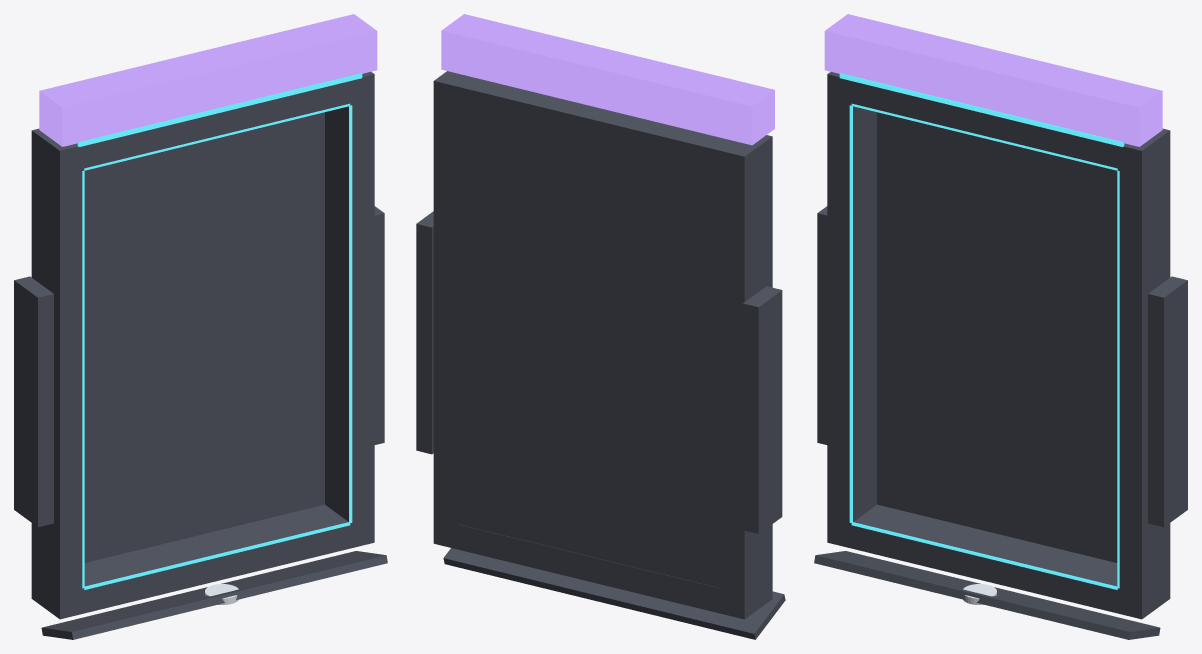
The model's file is stack_frame.glb.
The picture shows the model from 3 angles, left to right: view 1: azimuth 30°, elevation 25°; view 2: azimuth 150°, elevation 25°; view 3: azimuth 330°, elevation 25°; orthographic projection.
Parts seen in each view (by area): view 1: BackWall, Marquee, RailRight, RailLeft, RailBottom, Skirt-1, RailTop, Deck, Skirt1, LipRight, MarqueeBar, LipLeft (+2 smaller); view 2: BackWall, Marquee, RailLeft, RailRight, RailTop, Skirt-1, RailBottom, Deck, Skirt1; view 3: BackWall, Marquee, RailLeft, RailRight, RailBottom, Skirt1, RailTop, Deck, Skirt-1, LipLeft, MarqueeBar, LipRight (+2 smaller).
Boxes of the visible parts, box(x1,y1,x2,y2) form: BackWall: box(84, 112, 324, 562); Marquee: box(39, 14, 377, 146); RailRight: box(325, 72, 374, 548); RailLeft: box(31, 128, 84, 618); RailBottom: box(60, 504, 374, 619); Skirt-1: box(14, 276, 53, 527); RailTop: box(50, 73, 374, 175); Deck: box(41, 551, 387, 639); Skirt1: box(374, 206, 384, 444); LipRight: box(349, 105, 352, 522); MarqueeBar: box(77, 73, 362, 146); LipLeft: box(82, 170, 84, 588); BackWall: box(458, 112, 720, 587); Marquee: box(441, 14, 774, 145); RailLeft: box(720, 135, 772, 619); RailRight: box(433, 71, 470, 549); RailTop: box(433, 77, 772, 180); Skirt-1: box(743, 286, 782, 533); RailBottom: box(433, 518, 746, 613); Deck: box(443, 548, 785, 639); Skirt1: box(416, 211, 433, 454); BackWall: box(877, 112, 1117, 562); Marquee: box(824, 14, 1162, 146); RailLeft: box(827, 72, 876, 547); RailRight: box(1117, 128, 1170, 619); RailBottom: box(827, 504, 1170, 618); Skirt1: box(1148, 276, 1187, 527); RailTop: box(828, 72, 1169, 175); Deck: box(814, 551, 1160, 639); Skirt-1: box(817, 206, 827, 444); LipLeft: box(849, 105, 852, 522); MarqueeBar: box(839, 73, 1124, 146); LipRight: box(1117, 170, 1119, 588).
Bounding box in the file's own units: 7.82 × 11.69 × 1.71.
